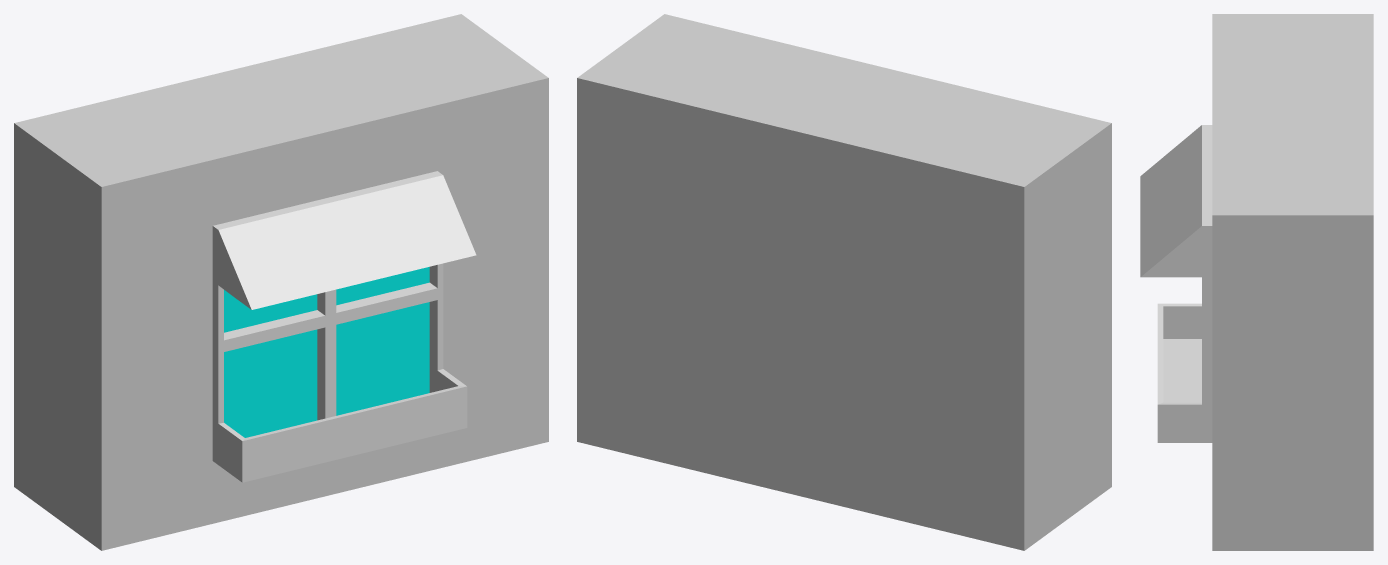
The model's file is BuildingM6.fbx.
3 views of the same model, side by side, from view 1: azimuth 30°, elevation 25°; view 2: azimuth 150°, elevation 25°; view 3: azimuth 270°, elevation 25° (orthographic). The views are drawn at different scales.
Visible parts, largest first — view 1: M6; view 2: M6; view 3: M6.
Boxes of the visible parts, left/top/right/bottom form: M6: left=14, top=14, right=548, bottom=550; M6: left=577, top=14, right=1111, bottom=550; M6: left=1140, top=14, right=1373, bottom=550.
Size of the model in its own units: 811 by 631 by 397.
